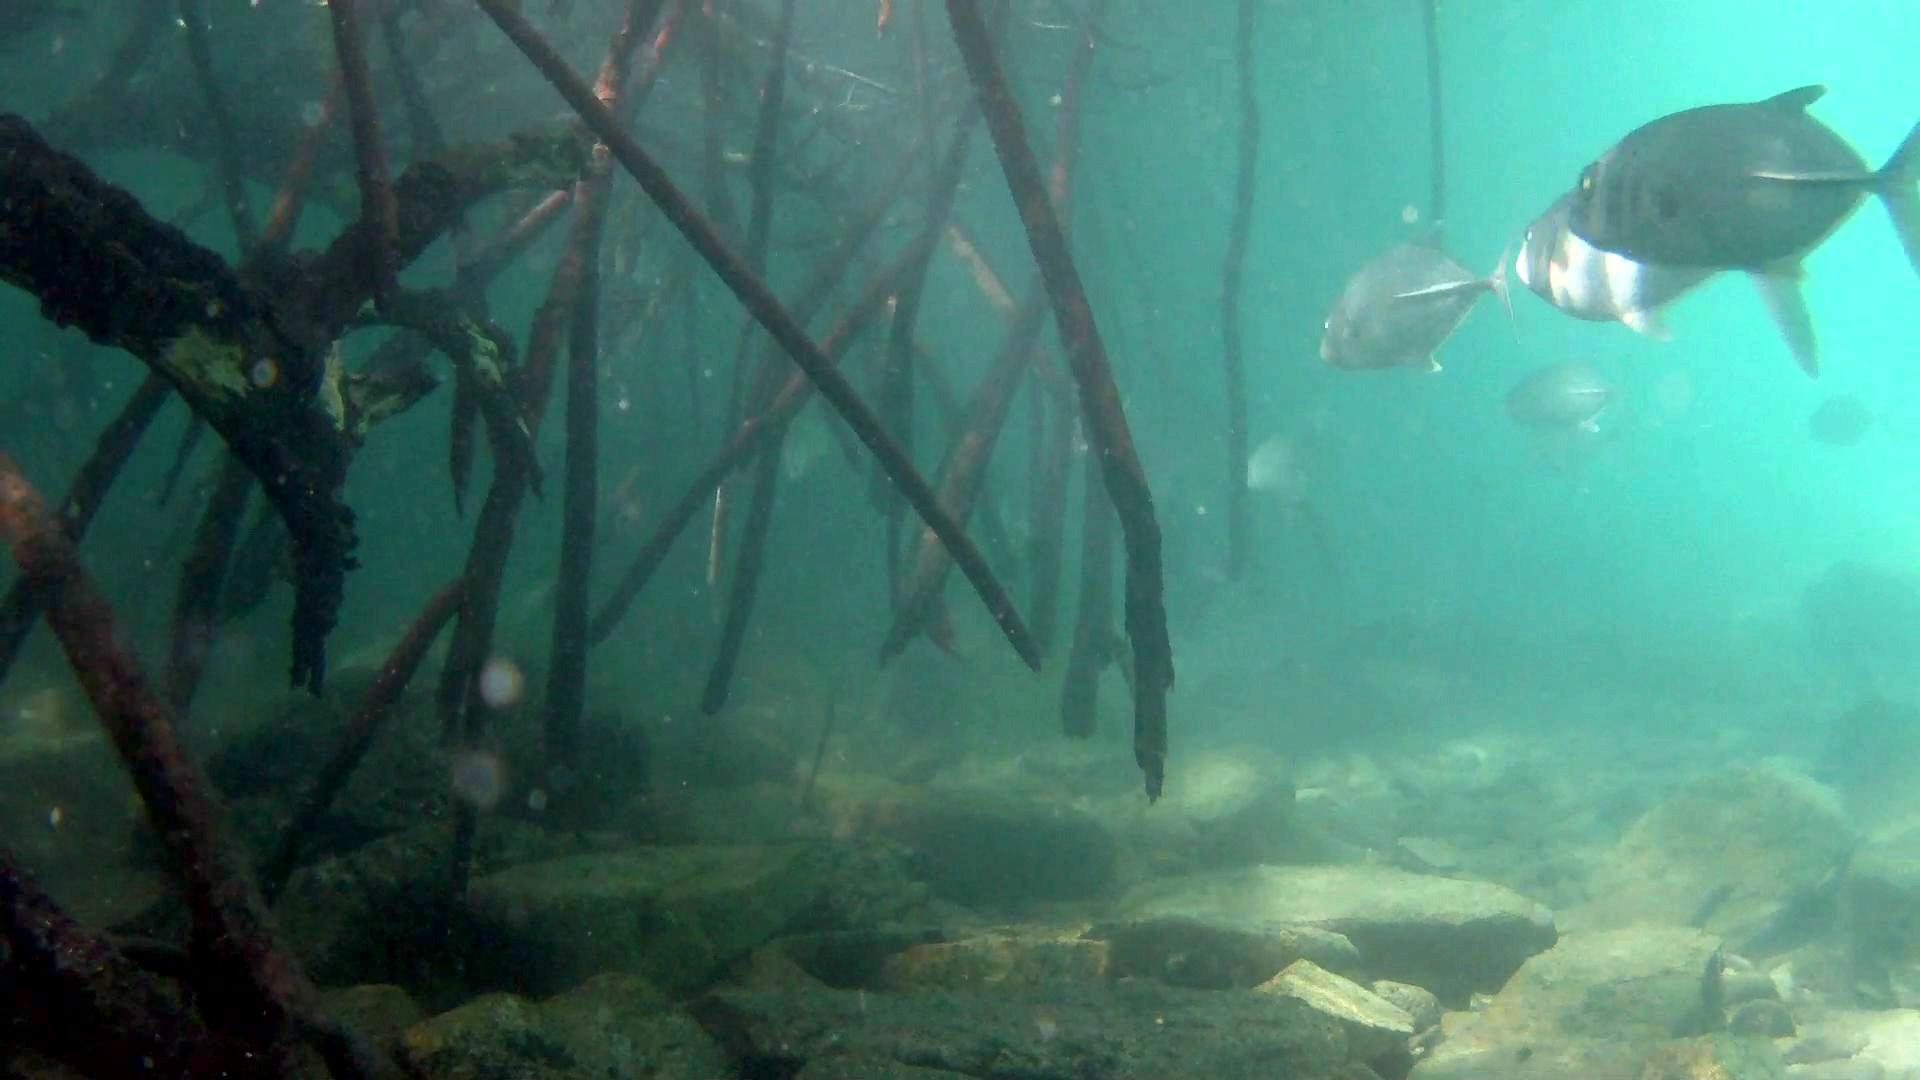caranx: (1548, 80, 1920, 282), (1308, 224, 1518, 386)
